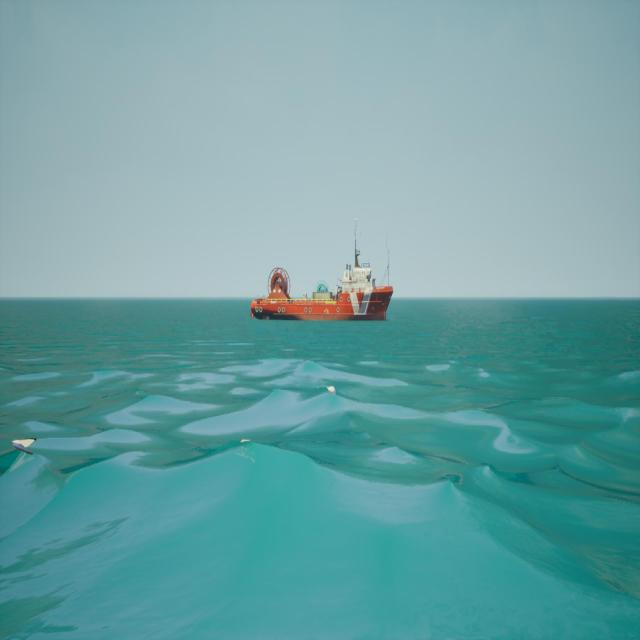tug boat: (252, 219, 395, 325)
